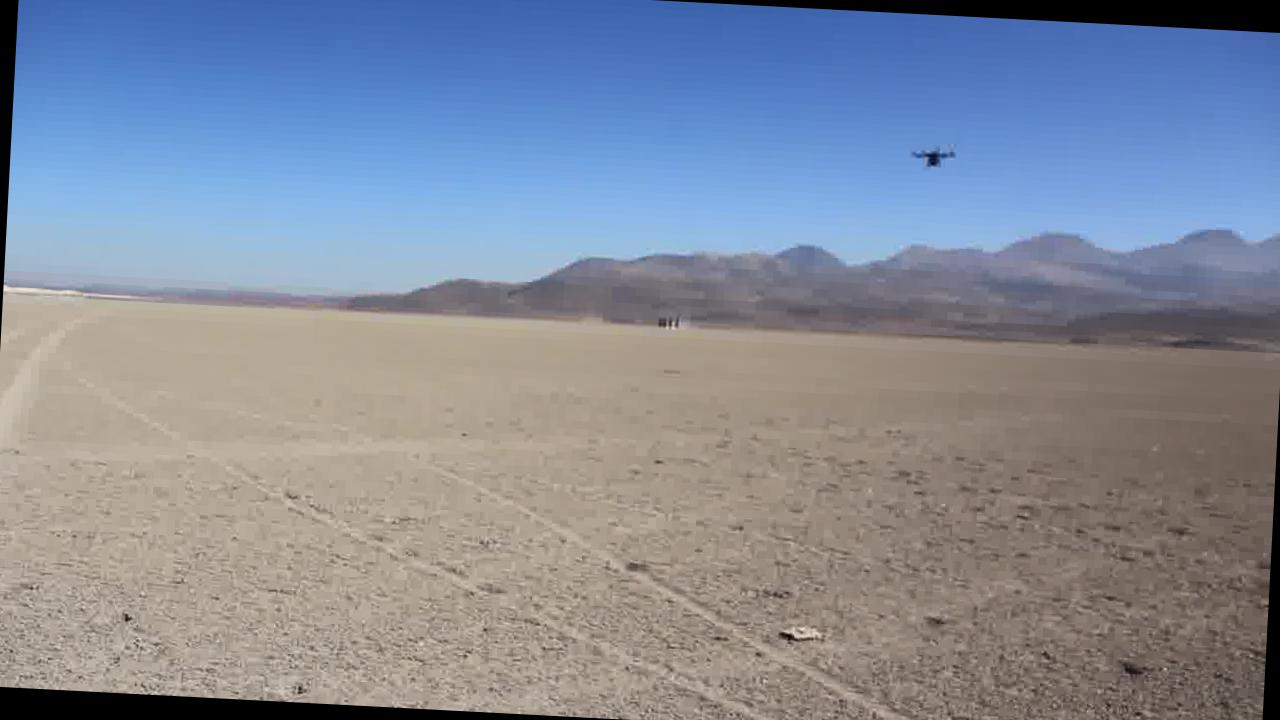drone: (907, 138, 957, 171)
